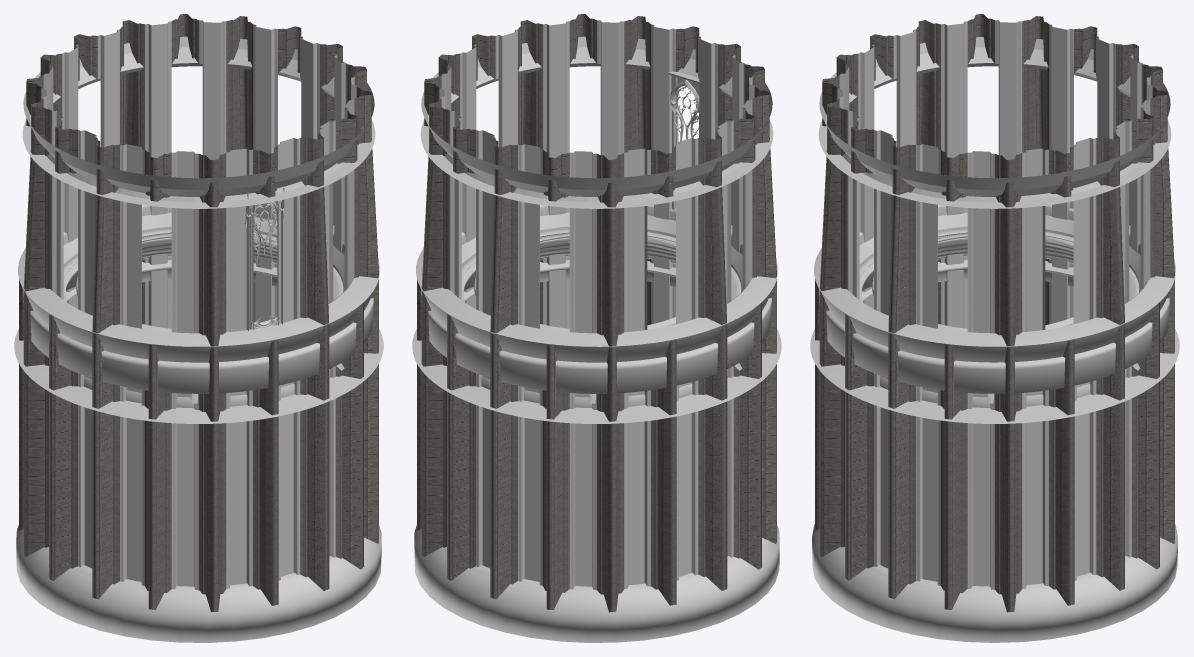
The model's file is CrucibleTransition_A.fbx.
The picture shows the model from 3 angles, left to right: view 1: azimuth 30°, elevation 25°; view 2: azimuth 150°, elevation 25°; view 3: azimuth 270°, elevation 25°; orthographic projection.
Visible parts, largest first — view 1: CrucibleTransition_A_Structure, CrucibleTransition_RingSupportB, CrucibleTransition_Level_A, CrucibleTransition_A_RingSupportUpper, Window_B4; view 2: CrucibleTransition_A_Structure, CrucibleTransition_RingSupportB, CrucibleTransition_Level_A, CrucibleTransition_A_RingSupportUpper, Window_B4; view 3: CrucibleTransition_A_Structure, CrucibleTransition_RingSupportB, CrucibleTransition_Level_A, CrucibleTransition_A_RingSupportUpper.
Part boxes in pixels (x1=…): CrucibleTransition_A_Structure: x1=19, y1=14, x2=378, y2=611; CrucibleTransition_RingSupportB: x1=14, y1=205, x2=383, y2=423; CrucibleTransition_Level_A: x1=16, y1=525, x2=381, y2=642; CrucibleTransition_A_RingSupportUpper: x1=22, y1=36, x2=375, y2=208; Window_B4: x1=245, y1=187, x2=284, y2=331; CrucibleTransition_A_Structure: x1=417, y1=14, x2=776, y2=612; CrucibleTransition_RingSupportB: x1=412, y1=205, x2=781, y2=423; CrucibleTransition_Level_A: x1=414, y1=525, x2=779, y2=642; CrucibleTransition_A_RingSupportUpper: x1=420, y1=36, x2=773, y2=208; Window_B4: x1=668, y1=71, x2=700, y2=209; CrucibleTransition_A_Structure: x1=815, y1=14, x2=1174, y2=612; CrucibleTransition_RingSupportB: x1=810, y1=205, x2=1179, y2=423; CrucibleTransition_Level_A: x1=812, y1=524, x2=1177, y2=642; CrucibleTransition_A_RingSupportUpper: x1=818, y1=37, x2=1171, y2=208.
Bounding box in the file's own units: 3774 × 5395 × 3774.
